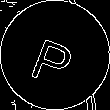P_N: (29, 25, 81, 85)
